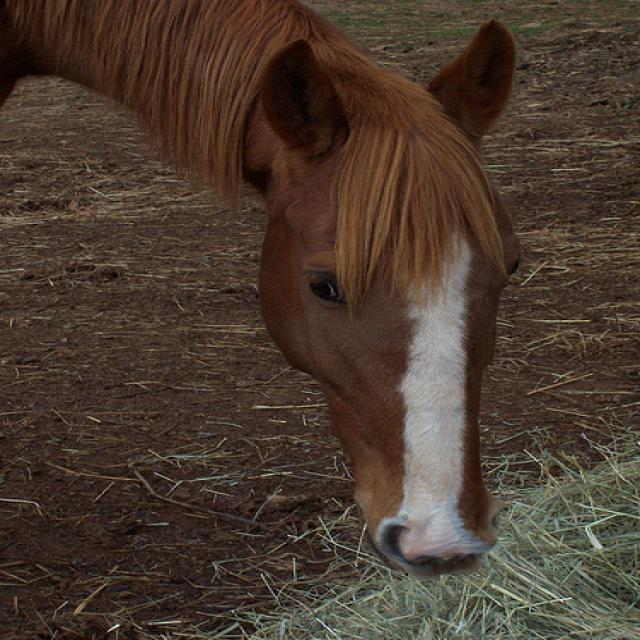horse: (1, 1, 523, 580)
